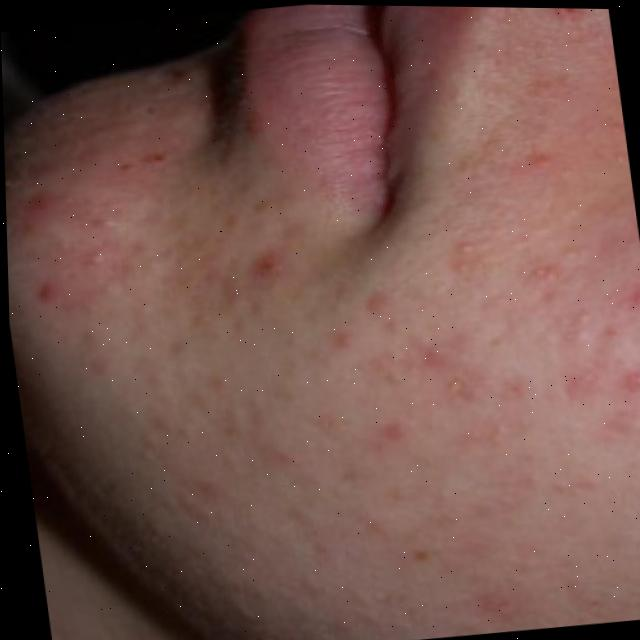Acne: (1, 30, 640, 621)
